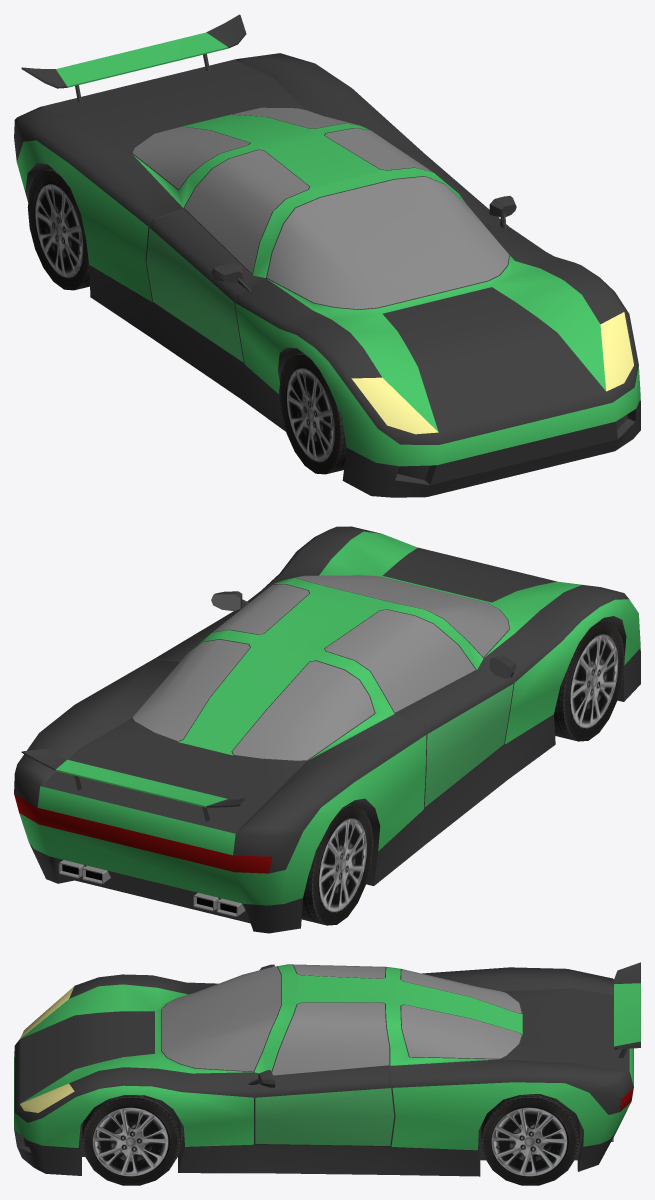
Rendered from car_3.FBX.
3 renders of one model, top to bottom at view 1: azimuth 30°, elevation 25°; view 2: azimuth 150°, elevation 25°; view 3: azimuth 270°, elevation 25°, orthographic. The views are drawn at different scales.
Parts seen in each view (by area): view 1: Object013, Cylinder067, Cylinder070; view 2: Object013, Cylinder070, Cylinder067; view 3: Object013, Cylinder071, Cylinder072.
Part boxes in pixels (bbox=[...]): Object013: bbox=[14, 14, 640, 497]; Cylinder067: bbox=[279, 352, 346, 474]; Cylinder070: bbox=[27, 168, 89, 290]; Object013: bbox=[14, 526, 640, 933]; Cylinder070: bbox=[301, 803, 373, 925]; Cylinder067: bbox=[554, 619, 624, 741]; Object013: bbox=[14, 962, 640, 1176]; Cylinder071: bbox=[481, 1094, 579, 1185]; Cylinder072: bbox=[82, 1095, 180, 1185].
Size of the model in its own units: 2.14 by 1.22 by 4.88.
